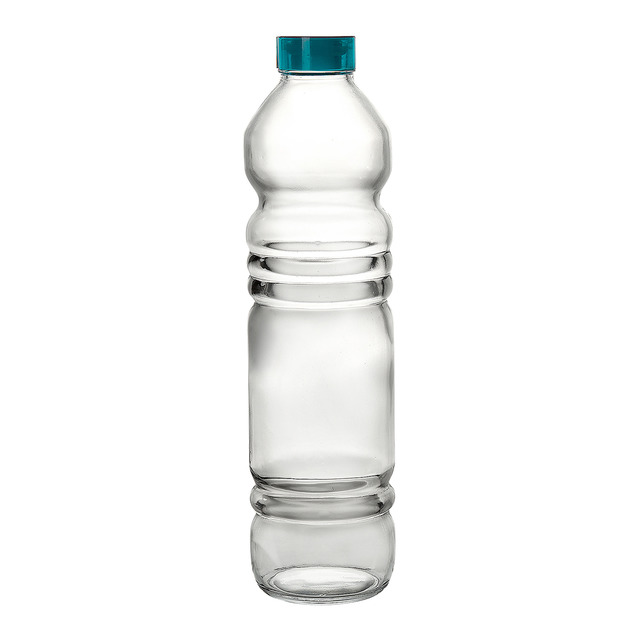botella: (242, 36, 400, 606)
